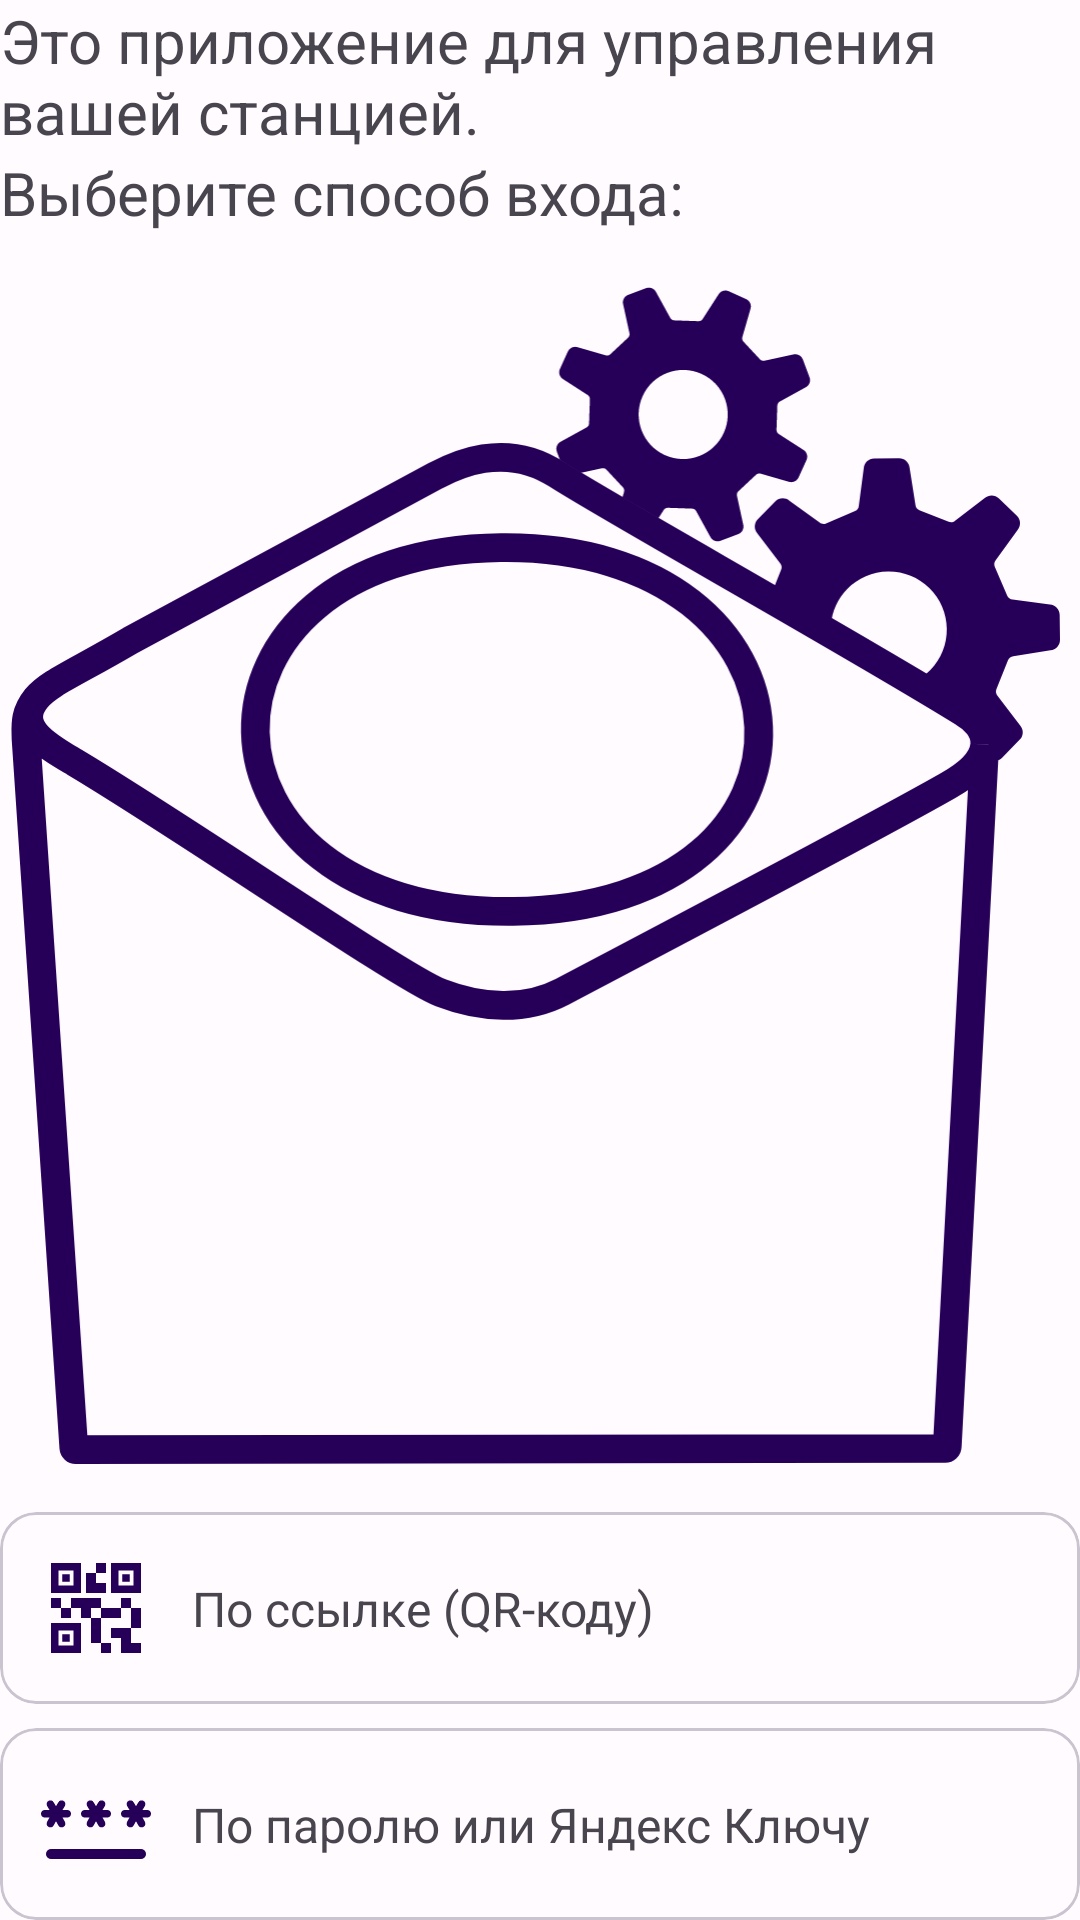

Icons on this 1080w x 1920h Android screen, each with its box as (x1, y1, x2, y2):
password: (41, 1800, 151, 1859)
qr code: (51, 1563, 141, 1653)
